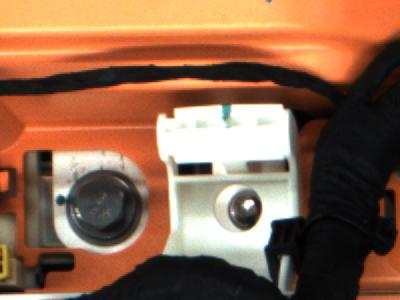nut_b: (61, 156, 156, 256)
